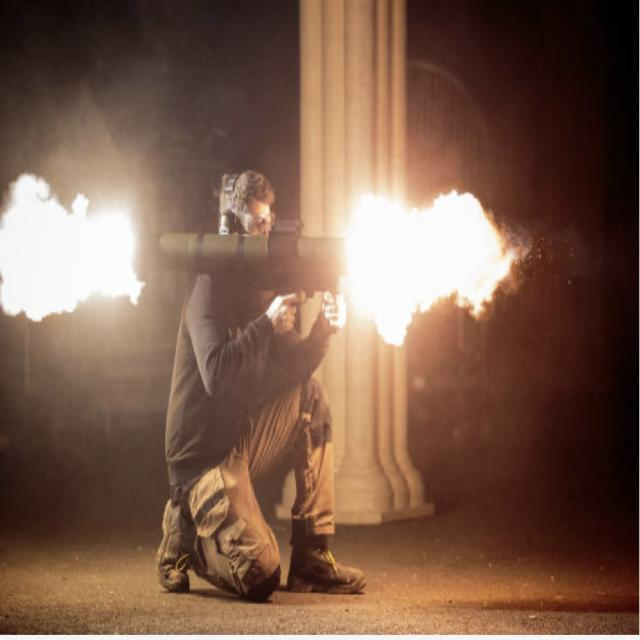bazooka: (145, 224, 356, 298)
